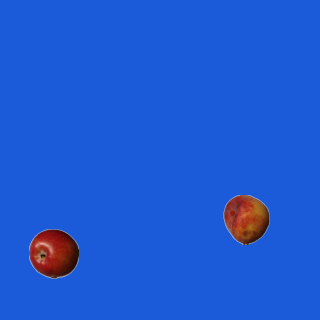Apple Braeburn: (28, 228, 78, 278)
Peach: (221, 194, 271, 244)
